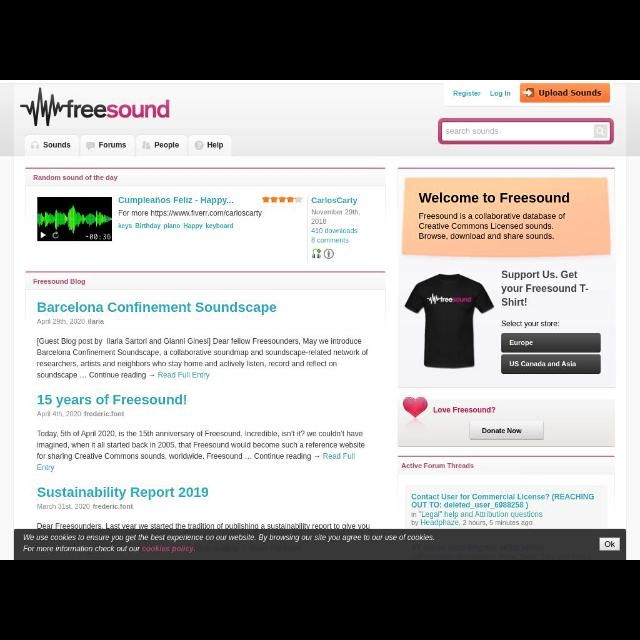icon: (85, 141, 96, 151), (30, 141, 40, 151), (141, 141, 151, 151), (324, 248, 334, 258), (524, 89, 534, 98), (312, 249, 321, 259), (596, 126, 604, 136), (195, 140, 202, 150), (286, 195, 294, 203), (278, 195, 286, 202), (262, 196, 268, 204), (270, 195, 276, 202), (295, 196, 301, 202)
image: (404, 274, 496, 368), (21, 88, 169, 130), (38, 196, 110, 242), (402, 396, 426, 418)
input: (442, 122, 610, 140)
multitab: (26, 137, 232, 155)
text: (37, 428, 365, 472), (36, 337, 368, 379), (22, 532, 436, 556), (418, 212, 566, 240), (37, 302, 279, 316), (502, 270, 590, 308), (411, 494, 595, 511), (36, 522, 372, 530), (37, 392, 189, 408), (418, 190, 570, 206), (411, 511, 543, 527), (36, 487, 210, 497), (117, 209, 263, 219), (36, 502, 136, 512), (118, 196, 235, 204), (400, 460, 474, 472), (36, 409, 126, 418), (32, 174, 120, 182), (310, 210, 360, 224), (508, 360, 576, 370), (34, 318, 106, 327), (502, 320, 560, 330), (537, 90, 603, 98), (446, 126, 498, 136), (34, 278, 86, 288), (433, 406, 495, 414), (312, 196, 361, 206), (312, 228, 358, 235), (309, 236, 346, 244), (98, 141, 126, 151), (479, 428, 523, 434), (204, 222, 236, 230), (154, 140, 178, 150), (510, 338, 534, 347), (44, 142, 70, 150), (182, 222, 202, 232), (488, 90, 512, 98), (135, 223, 161, 230), (453, 90, 481, 96), (206, 142, 224, 150), (116, 222, 134, 230), (163, 222, 181, 230), (604, 541, 616, 549)
textbutton: (520, 82, 610, 104), (470, 421, 544, 439), (600, 538, 620, 552)
